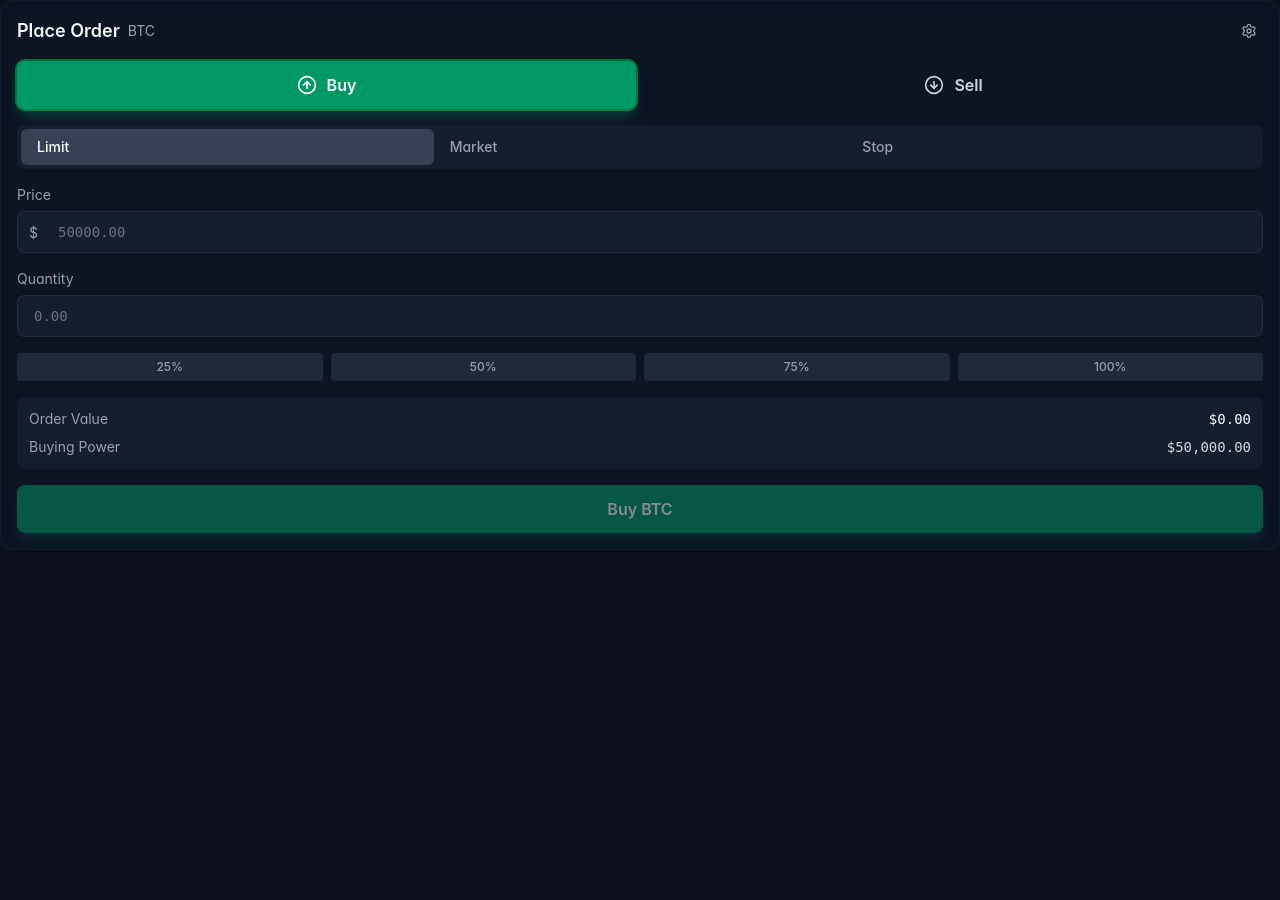
Test: OrderPanel › Order Types › can switch to stop-limit order
Click the tab "Stop": coordinates (878, 146) [846,129,1259,165]
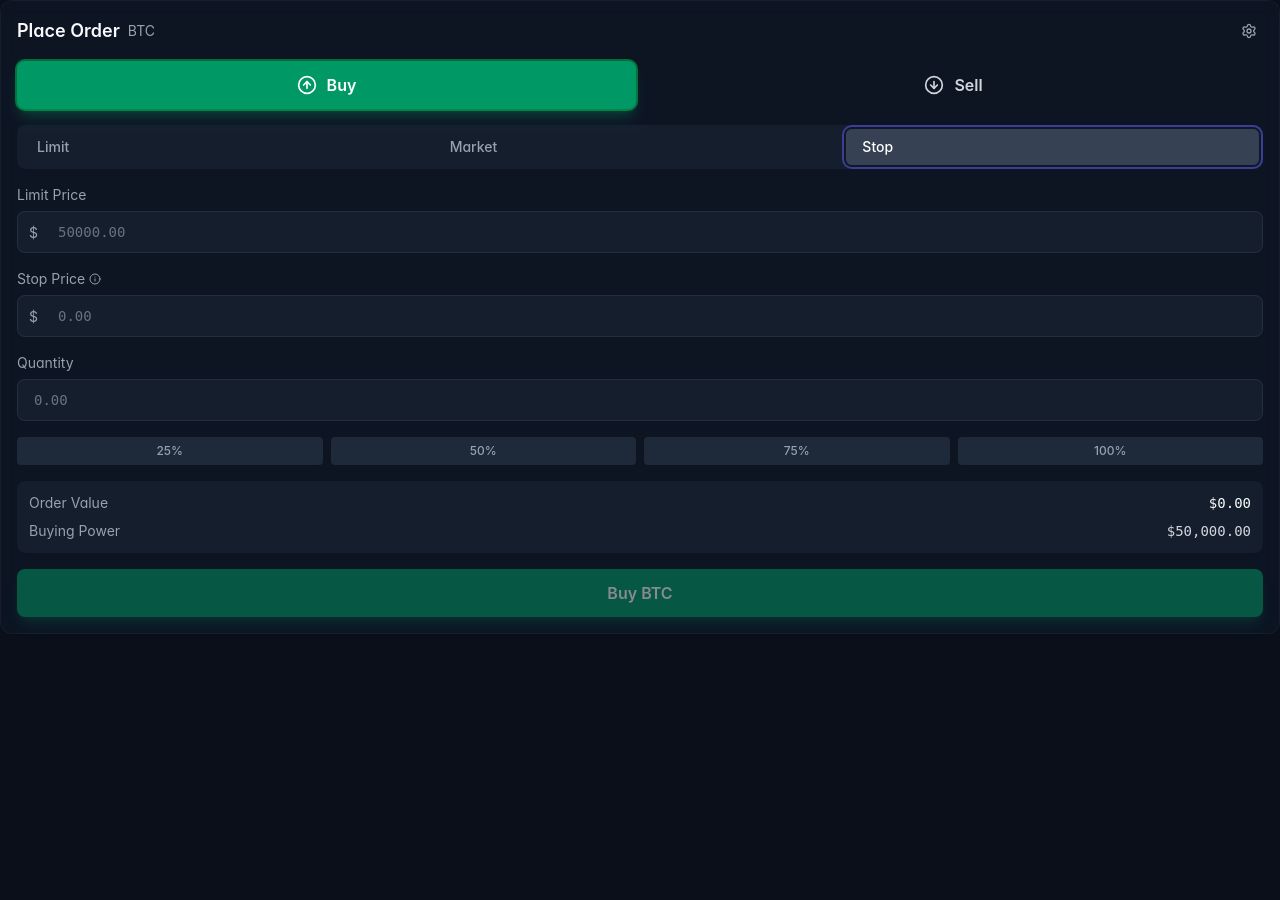
expect the text "Stop Price" is shown: met, box [17,270,101,287]
expect the text "Limit Price" is shown: met, box [17,186,86,203]
